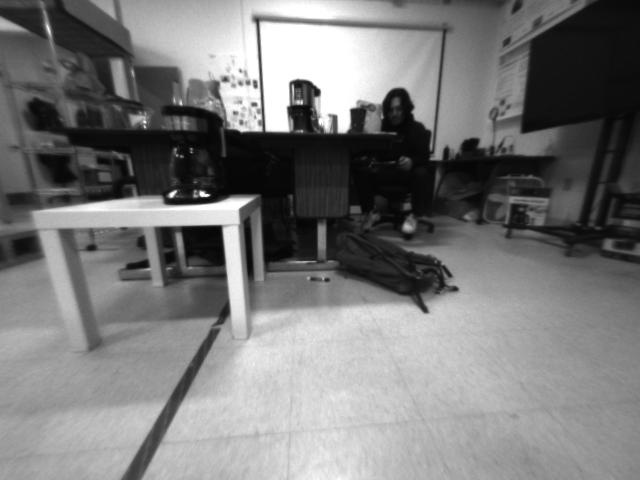coffee_pot: (158, 99, 236, 208)
